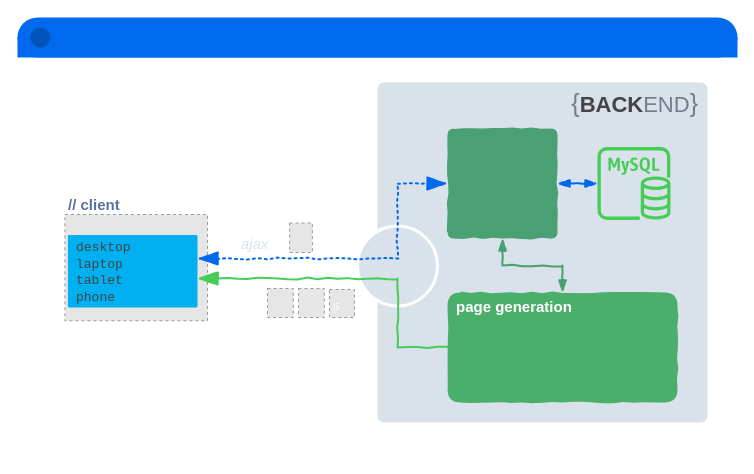
Some shapes in this 754 by 474 pixel diagram are drawn without their labels. Grey dashed boxes stand in for pictures. The shapes that lost their labels are listed below. From the top down, each one's centre as x and y in pixels, then its label:
point (377, 37): /simplon-tp/product-hunt
point (502, 183): " API "
